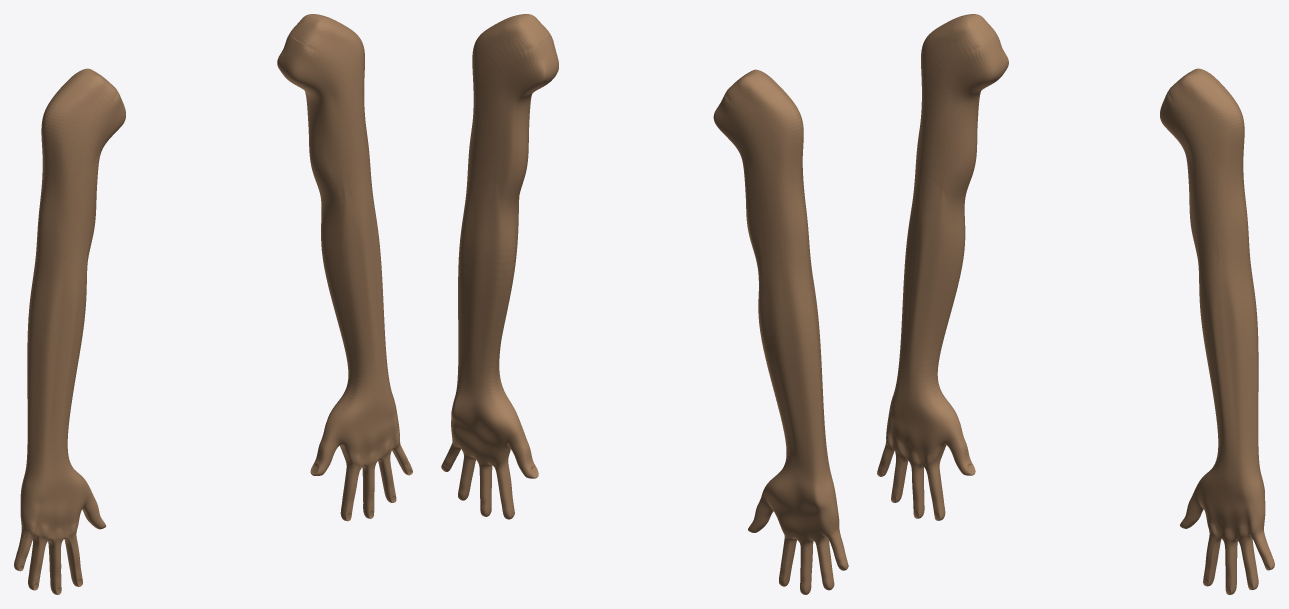
Rendered from BRAZOS - RIG 1.0.fbx.
3 renders of one model, left to right at view 1: azimuth 30°, elevation 25°; view 2: azimuth 150°, elevation 25°; view 3: azimuth 330°, elevation 25°, orthographic. The views are drawn at different scales.
Parts seen in each view (by area): view 1: BRAZO.002; view 2: BRAZO.002; view 3: BRAZO.002.
Part boxes in pixels (x1,y1,x2,y2): BRAZO.002: [14, 14, 412, 594]; BRAZO.002: [441, 14, 848, 594]; BRAZO.002: [877, 14, 1274, 594].
Size of the model in its own units: 10189 by 12409 by 1256.
